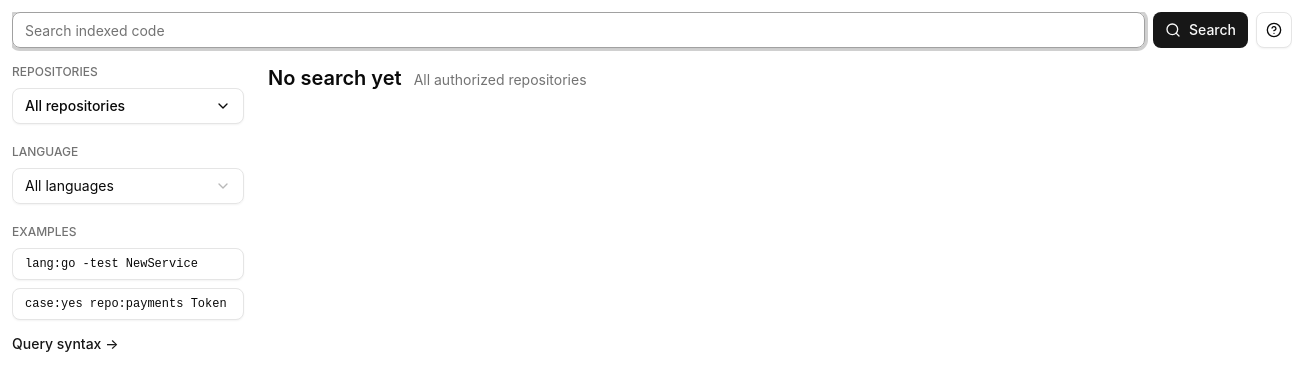
SearchPage › fills the query from an example without submitting
Click the button "case:yes repo:payments Token" at (128, 304), box left=12, top=288, right=244, bottom=320
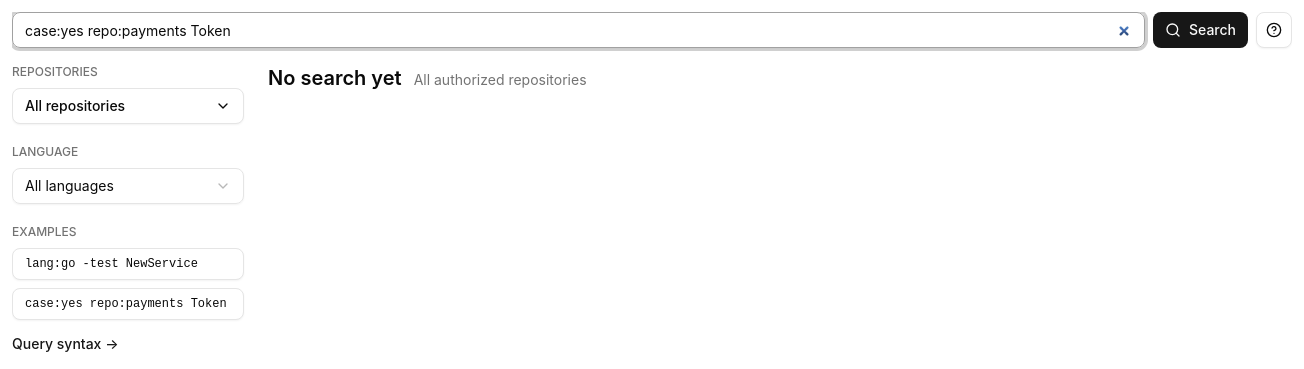
Check: the search field named "Search code" holds "case:yes repo:payments Token", box left=12, top=12, right=1145, bottom=48
